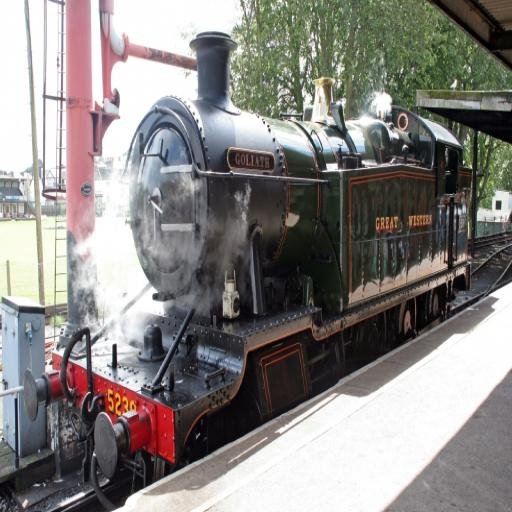platform_edge: (151, 296, 509, 497)
